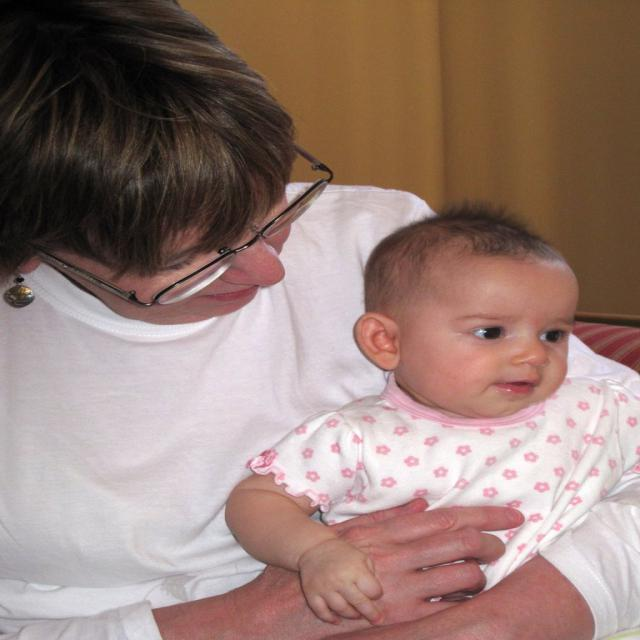closed-mouth: (201, 286, 256, 305), (495, 380, 537, 394)
